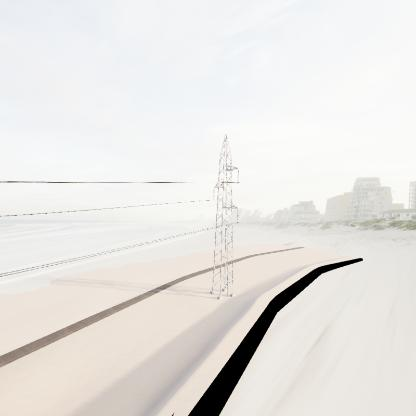tower: (206, 132, 243, 301)
